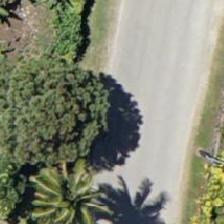coconut_tree: (15, 152, 105, 223)
